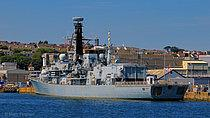MIL_Ship: (29, 16, 190, 100)
